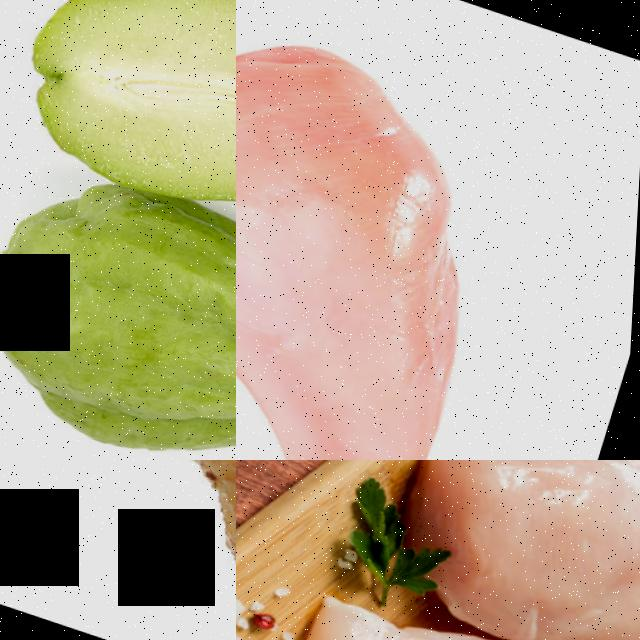chayote: (0, 146, 236, 460), (0, 0, 236, 300)
chicken breast: (236, 0, 562, 460), (411, 460, 640, 640), (236, 559, 640, 640)
chicken thigh: (0, 460, 236, 640)
